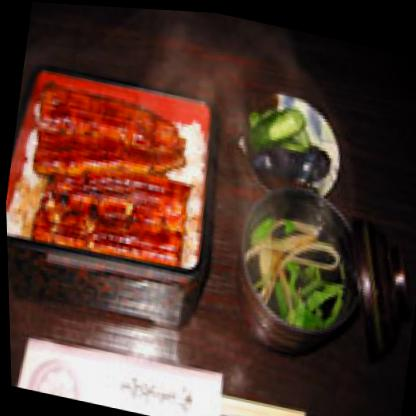eel: (10, 68, 202, 270)
